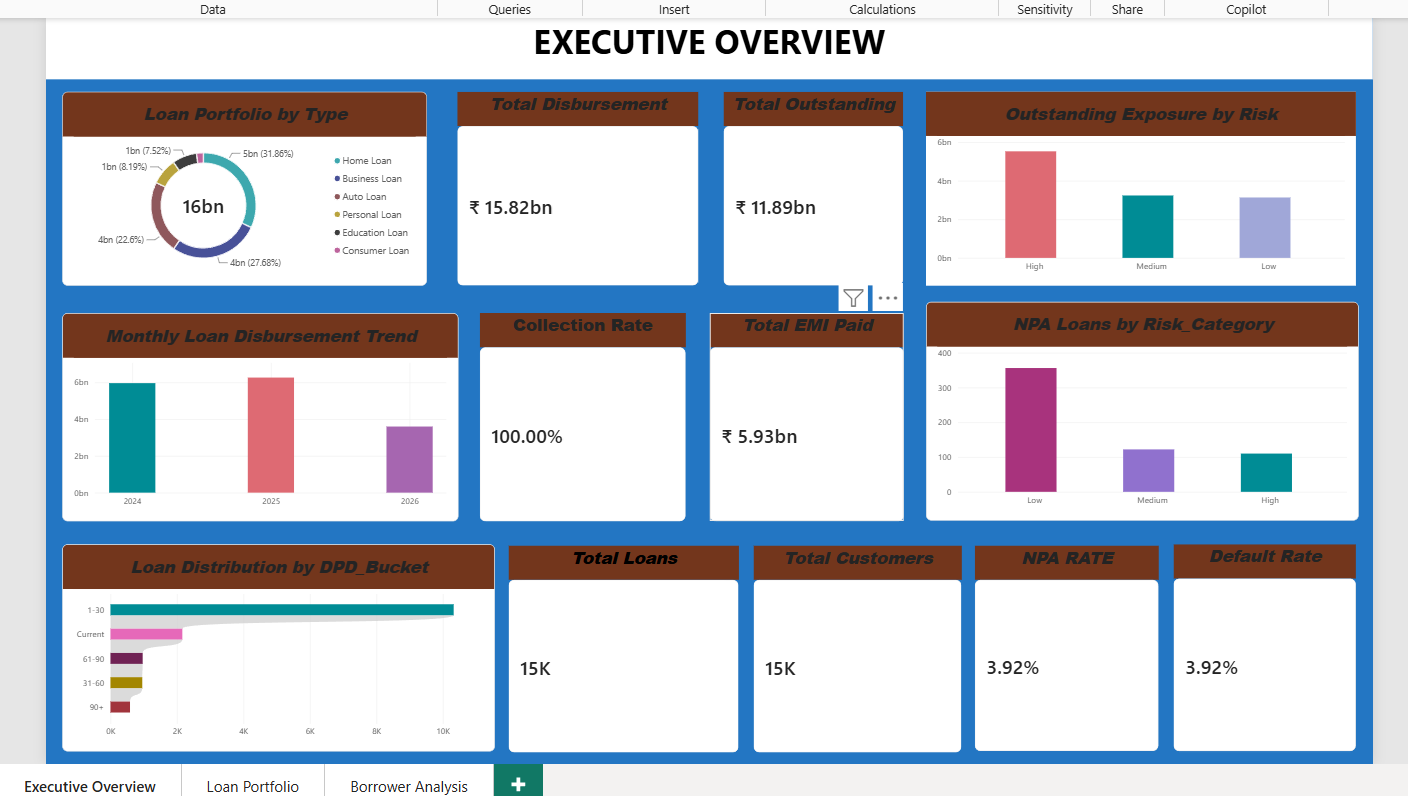

The dashboard page shown, as its layout file describes it:
{"tool":"powerbi","page":{"name":"Executive Overview","canvas":[1920,1080],"ordinal":0},"visuals":[{"type":"cardVisual","title":"Total Customers","fields":{"Data":["MEASURE.Total Customers"]},"box":[1024.5,764.2,301.9,300],"z":0},{"type":"cardVisual","title":"Total Disbursement","fields":{"Data":["MEASURE.Total Disbursment"]},"box":[596.2,107.5,349.1,281.1],"z":1000},{"type":"cardVisual","title":"Total Loans","fields":{"Data":["MEASURE.Total loans"]},"box":[669.8,764.2,334,300],"z":2000},{"type":"cardVisual","title":"Total Outstanding","fields":{"Data":["MEASURE.Total Outstanding"]},"box":[981.1,107.5,260.4,281.1],"z":3000},{"type":"cardVisual","title":"Total EMI Paid","fields":{"Data":["MEASURE.Total EMI paid"]},"box":[960.4,426.4,281.1,301.9],"z":4000},{"type":"cardVisual","title":"Collection Rate","fields":{"Data":["MEASURE.Collection rate"]},"box":[628.3,426.4,298.1,301.9],"z":5000},{"type":"cardVisual","title":"NPA RATE","fields":{"Data":["MEASURE.NPA Rate"]},"box":[1345.3,764.2,266,298.1],"z":6000},{"type":"cardVisual","title":"Default Rate","fields":{"Data":["MEASURE.Default Rate"]},"box":[1632.1,762.3,264.2,300],"z":7000},{"type":"clusteredColumnChart","title":"Monthly Loan Disbursement Trend","fields":{"Category":["Dim_Date.Year_Month.Variation.Date Hierarchy.Year","Dim_Date.Year_Month.Variation.Date Hierarchy.Quarter","Dim_Date.Year_Month.Variation.Date Hierarchy.Month","Dim_Date.Year_Month.Variation.Date Hierarchy.Day"],"Y":["MEASURE.Total Disbursment"]},"box":[22.6,426.4,573.6,301.9],"z":8000},{"type":"donutChart","title":"Loan Portfolio by Type","fields":{"Category":["Dim_Loan_Type.Column1"],"Y":["MEASURE.Total Disbursment"]},"box":[22.6,107.5,528.3,281.1],"z":9000},{"type":"columnChart","title":"Outstanding Exposure by Risk","fields":{"Category":["Dim_Risk.Column1"],"Y":["MEASURE.Total Outstanding"]},"box":[1273.6,107.5,622.6,281.1],"z":10000},{"type":"columnChart","fields":{"Category":["Loan_Fact.Risk_Category"],"Y":["MEASURE.NPA Loans"]},"box":[1273.6,411.3,626.4,317],"z":11000},{"type":"barChart","title":"Loan Distribution by DPD_Bucket","fields":{"Category":["Loan_Fact.DPD_Bucket"],"Y":["CountNonNull(Loan_Fact.Loan_ID)"]},"box":[22.6,762.3,626.4,300],"z":12000},{"type":"textbox","box":[0,0,1920.8,88.7],"z":12001}]}

Visuals, with their boxes in screenshot pixels (x1, y1, x2, y2):
"Total Customers" cardVisual: (748,544,958,753)
"Total Disbursement" cardVisual: (449,86,692,282)
"Total Loans" cardVisual: (500,544,733,753)
"Total Outstanding" cardVisual: (717,86,899,282)
"Total EMI Paid" cardVisual: (703,308,899,519)
"Collection Rate" cardVisual: (471,308,679,519)
"NPA RATE" cardVisual: (971,544,1157,752)
"Default Rate" cardVisual: (1171,543,1356,752)
"Monthly Loan Disbursement Trend" clusteredColumnChart: (49,308,449,519)
"Loan Portfolio by Type" donutChart: (49,86,417,282)
"Outstanding Exposure by Risk" columnChart: (921,86,1356,282)
columnChart - Loan_Fact.Risk_Category x MEASURE.NPA Loans: (921,298,1358,519)
"Loan Distribution by DPD_Bucket" barChart: (49,543,486,752)
textbox: (33,11,1373,73)
